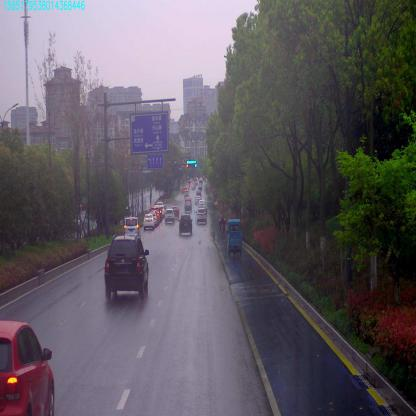traffic-light: (187, 159, 195, 164), (185, 162, 190, 168), (191, 162, 196, 168)
